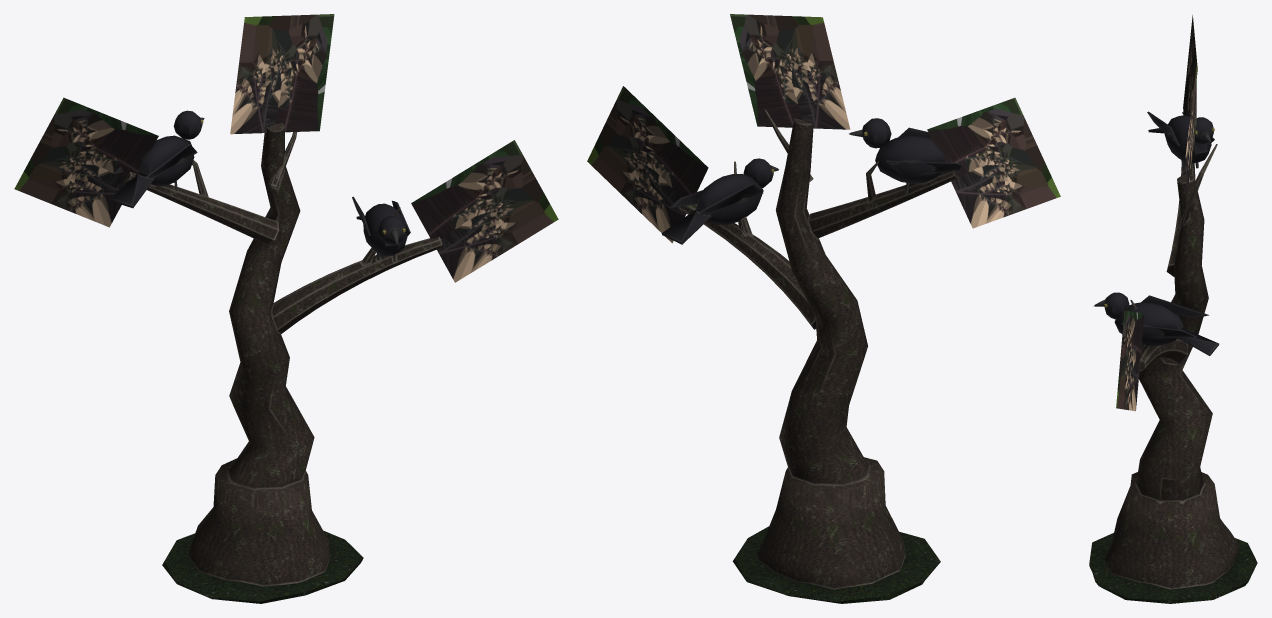
File: CrowPerch.fbx
3 renders of one model, left to right at view 1: azimuth 30°, elevation 25°; view 2: azimuth 150°, elevation 25°; view 3: azimuth 270°, elevation 25°, orthographic. The views are drawn at different scales.
Parts seen in each view (by area): view 1: CrowPerch_Main, CrowPerch_Leaves; view 2: CrowPerch_Main, CrowPerch_Leaves; view 3: CrowPerch_Main, CrowPerch_Leaves.
Boxes of the visible parts, x1,y1,x2,y2 form: CrowPerch_Main: [109, 110, 442, 603]; CrowPerch_Leaves: [14, 14, 558, 282]; CrowPerch_Main: [661, 109, 964, 603]; CrowPerch_Leaves: [587, 14, 1060, 243]; CrowPerch_Main: [1089, 111, 1257, 603]; CrowPerch_Leaves: [1116, 15, 1197, 411].
Size of the model in its own units: 711 by 729 by 223.
